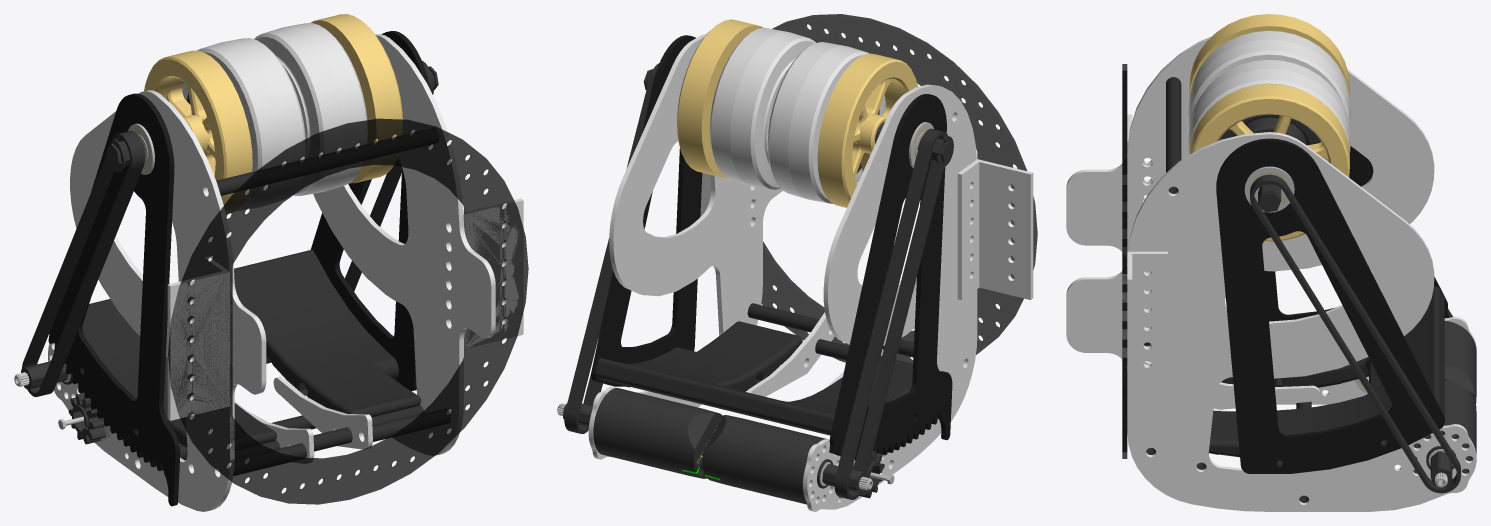
File: SingleTurret.glb
The picture shows the model from 3 angles, left to right: view 1: azimuth 30°, elevation 25°; view 2: azimuth 150°, elevation 25°; view 3: azimuth 270°, elevation 25°; orthographic projection. The views are drawn at different scales.
Parts seen in each view (by area): view 1: Shooter Base Plate, Shooter Motor Side Plate, Shooter Servo Side Plate, Shooter Backing, 4" Colson Performa Wheel (1.5" WD, 1/2" Hex Bore) (×2), Toothed Hood Side Plate, Shooter Side Plate Mounting Angle (×2), 4" Brass Flywheel (1/2" Triangle Bore) (×2), 170T 3M 9mm Wide Belt (×2), Hood Side Plate, ROUND Spacer 6.125 in, Side Rail (×2) (+5 smaller); view 2: Shooter Motor Side Plate, Shooter Servo Side Plate, 4" Colson Performa Wheel (1.5" WD, 1/2" Hex Bore) (×2), Toothed Hood Side Plate, Kraken X44 Brushless Motor (×2), 170T 3M 9mm Wide Belt (×2), 4" Brass Flywheel (1/2" Triangle Bore) (×2), Shooter Backing, Shooter Base Plate, Shooter Side Plate Mounting Angle, Hood Side Plate, Side Rail (+2 smaller); view 3: Shooter Motor Side Plate, Hood Side Plate, Shooter Servo Side Plate, 4" Colson Performa Wheel (1.5" WD, 1/2" Hex Bore) (×2), 4" Brass Flywheel (1/2" Triangle Bore) (×2), Shooter Backing, 170T 3M 9mm Wide Belt, Shooter Side Plate Mounting Angle, Kraken X44 Brushless Motor (×2), Shooter Base Plate, Toothed Hood Side Plate, ROUND Spacer 6.125 in (+4 smaller).
Part boxes in pixels (x1,y1,x2,y2): Shooter Base Plate: (168,118,528,504); Shooter Motor Side Plate: (313,34,495,455); Shooter Servo Side Plate: (48,90,266,511); Shooter Backing: (82,249,420,450); 4" Colson Performa Wheel (1.5" WD, 1/2" Hex Bore) (×2): (182,23,367,210); Toothed Hood Side Plate: (48,93,180,506); Shooter Side Plate Mounting Angle (×2): (167,198,523,420); 4" Brass Flywheel (1/2" Triangle Bore) (×2): (144,14,402,213); 170T 3M 9mm Wide Belt (×2): (22,61,433,396); Hood Side Plate: (310,31,429,391); ROUND Spacer 6.125 in: (208,128,438,195); Side Rail (×2): (234,376,372,463); Shooter Motor Side Plate: (588,34,782,459); Shooter Servo Side Plate: (803,84,977,511); 4" Colson Performa Wheel (1.5" WD, 1/2" Hex Bore) (×2): (709,27,885,203); Toothed Hood Side Plate: (829,94,952,458); Kraken X44 Brushless Motor (×2): (557,388,872,504); 170T 3M 9mm Wide Belt (×2): (564,63,947,499); 4" Brass Flywheel (1/2" Triangle Bore) (×2): (677,19,918,207); Shooter Backing: (595,321,913,435); Shooter Base Plate: (761,14,1037,363); Shooter Side Plate Mounting Angle: (957,159,1033,300); Hood Side Plate: (591,35,702,386); Side Rail: (746,312,834,396); Shooter Motor Side Plate: (1066,132,1476,511); Hood Side Plate: (1216,138,1444,473); Shooter Servo Side Plate: (1066,36,1476,404); 4" Colson Performa Wheel (1.5" WD, 1/2" Hex Bore) (×2): (1188,31,1350,161); 4" Brass Flywheel (1/2" Triangle Bore) (×2): (1189,14,1349,241); Shooter Backing: (1208,286,1444,465); 170T 3M 9mm Wide Belt: (1250,174,1460,493); Shooter Side Plate Mounting Angle: (1127,251,1167,408); Kraken X44 Brushless Motor (×2): (1413,321,1476,487); Shooter Base Plate: (1122,64,1127,458); Toothed Hood Side Plate: (1264,146,1449,321); ROUND Spacer 6.125 in: (1166,77,1181,193).
Bounding box in the file's own units: 0.2476 × 0.2778 × 0.2563.
